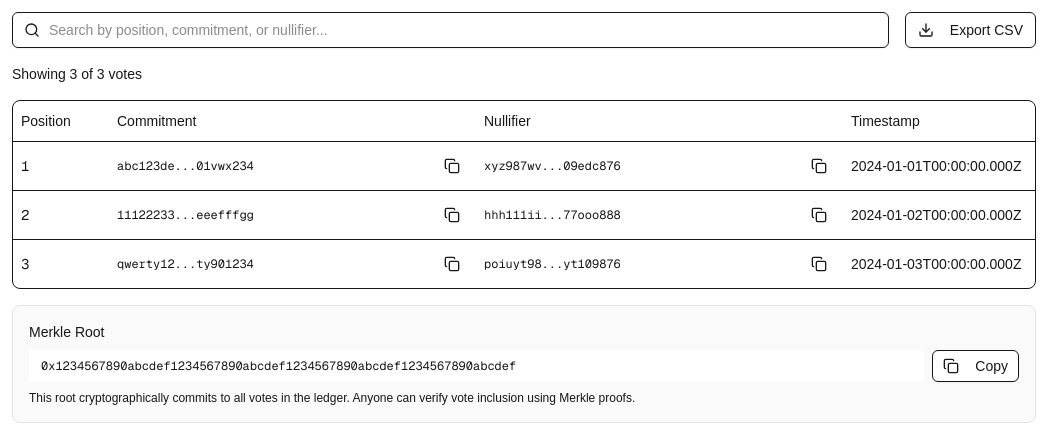
Scenario: VoteTable Component › Search Functionality › shows no results message when search has no matches
The width and height of the screenshot is (1048, 440).
Type "nonexistent" into the field with placeholder "Search by position, commitment, or nullifier...".
click(450, 30); type("nonexistent")  # box [12,12,889,48]
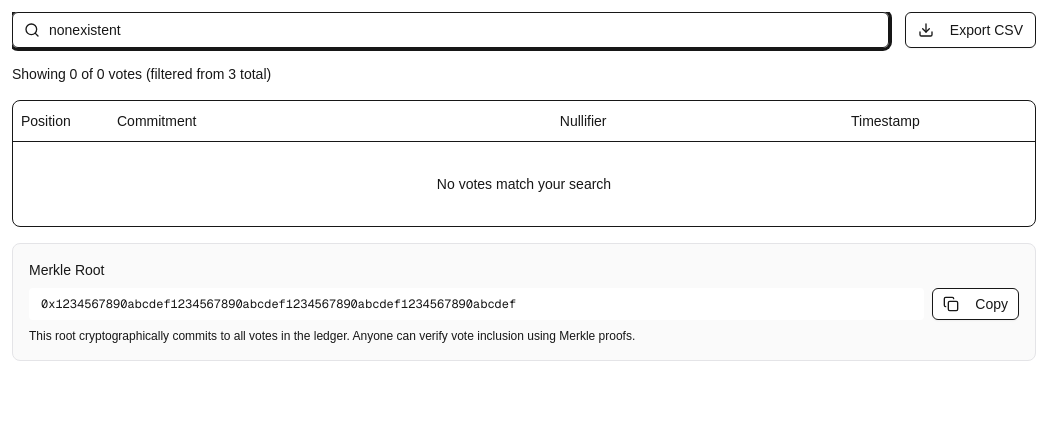
Result: the text "No votes match your search" is shown at [437,176,611,192]
